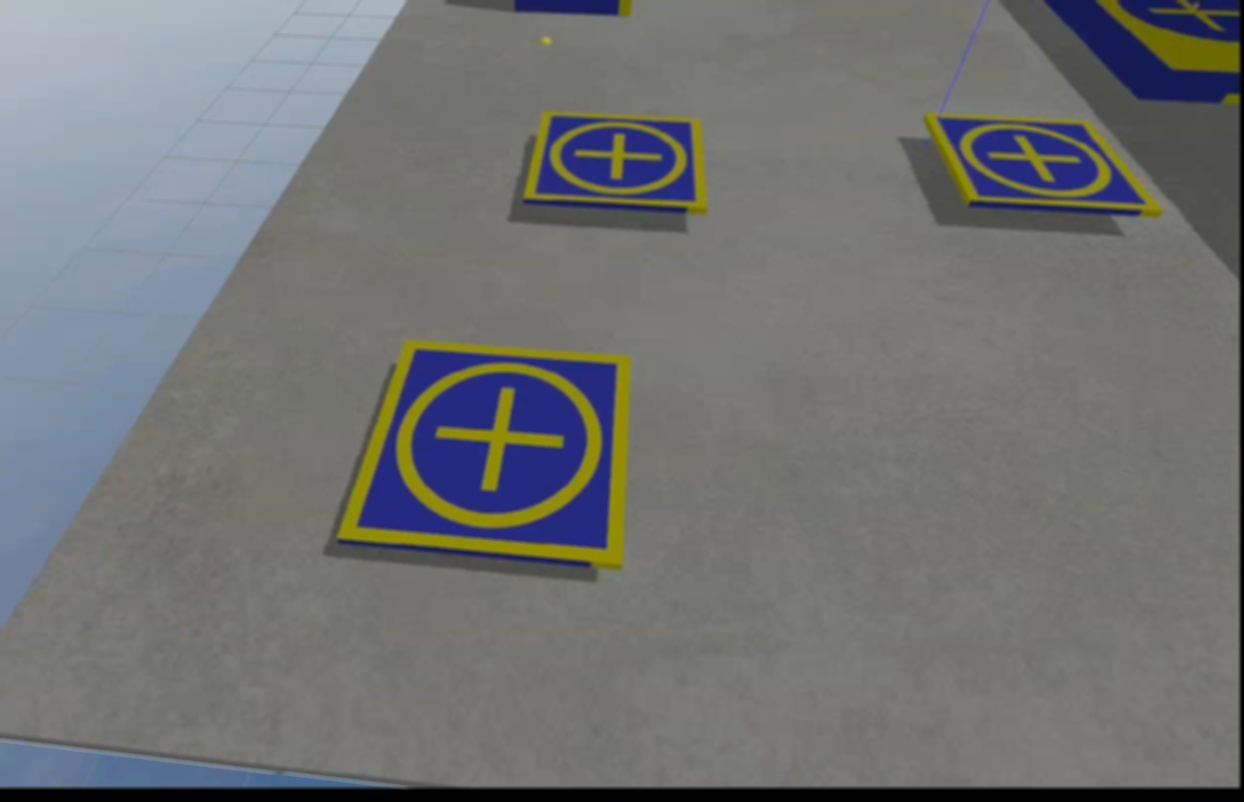large_base: (1051, 1, 1244, 107)
small_base: (333, 335, 639, 582), (923, 111, 1165, 223), (526, 111, 712, 220)
